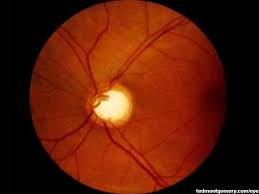Glaucoma section-1: (98, 94, 126, 119)
Glaucoma section-2: (86, 85, 136, 128)
